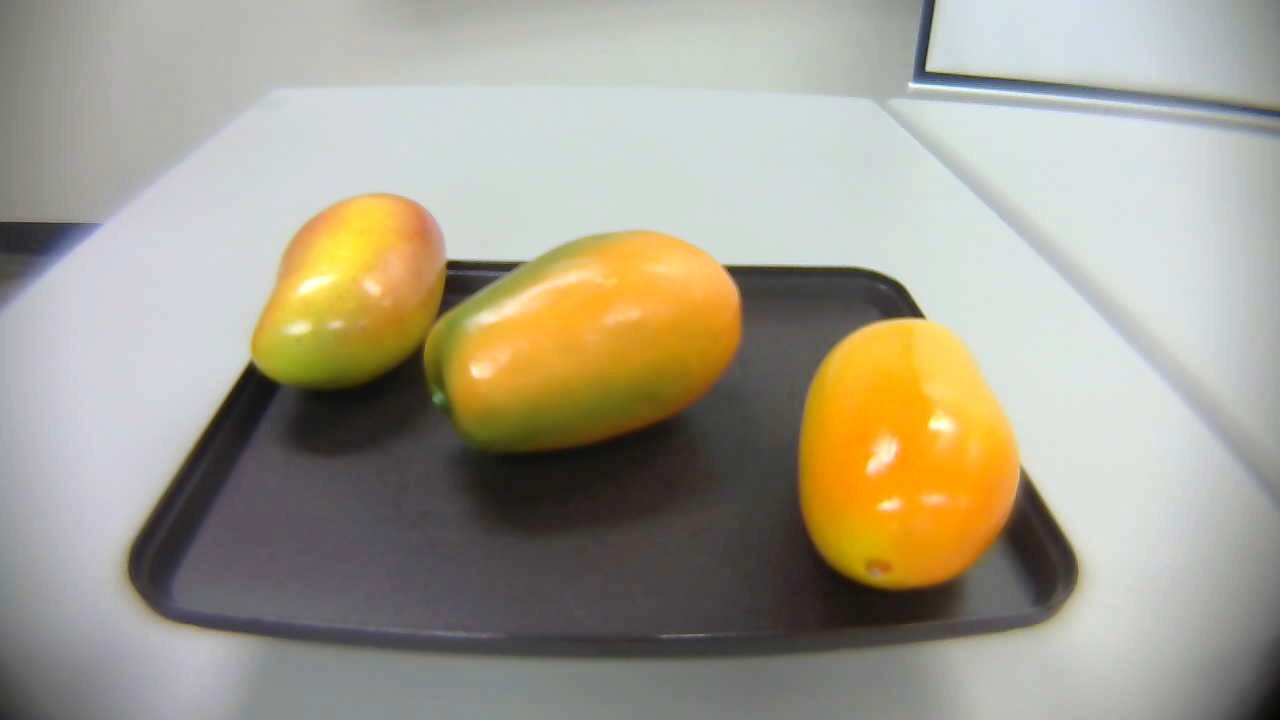papya: (412, 232, 746, 458)
red mango: (244, 188, 452, 401)
yellow mango: (796, 306, 1022, 600)
